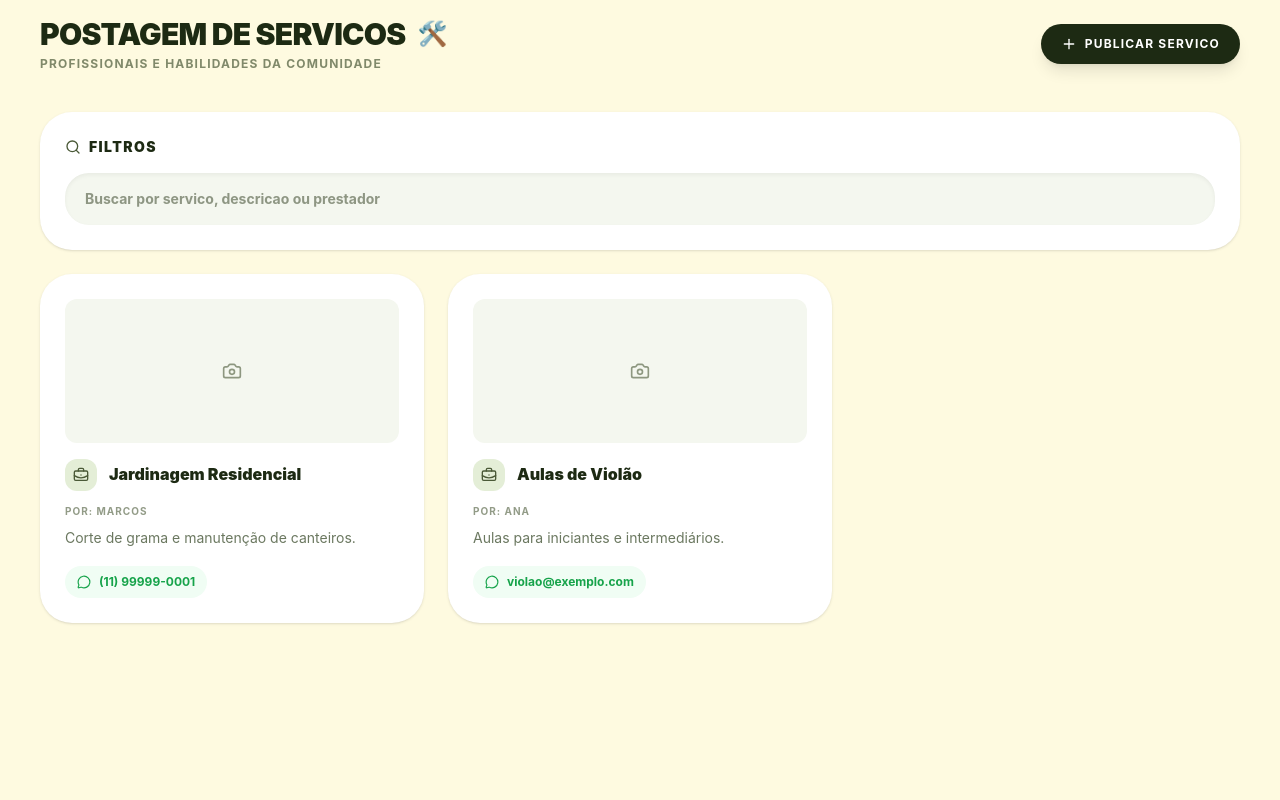
Test case: ServicosView › aplica filtro de busca na listagem de serviços
Expected: the heading "Jardinagem Residencial" is shown, [109,462,301,488]
Expected: the heading "Aulas de Violão" is shown, [517,462,642,488]
Type "violão" into the field with placeholder "Buscar por servico, descricao ou prestador" at (640, 199), box [65,173,1215,225]
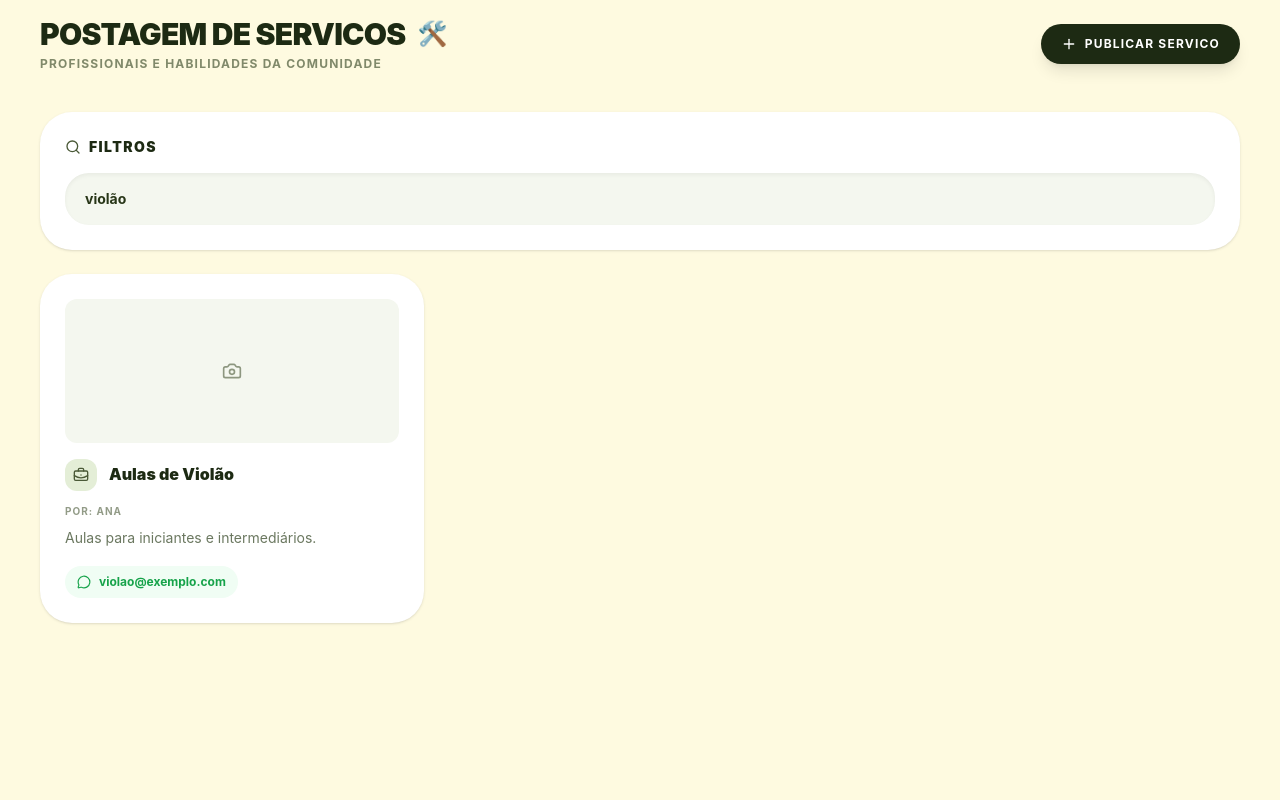
Expected: the heading "Aulas de Violão" is shown, [109,462,234,488]
Expected: the heading "Jardinagem Residencial" is gone
